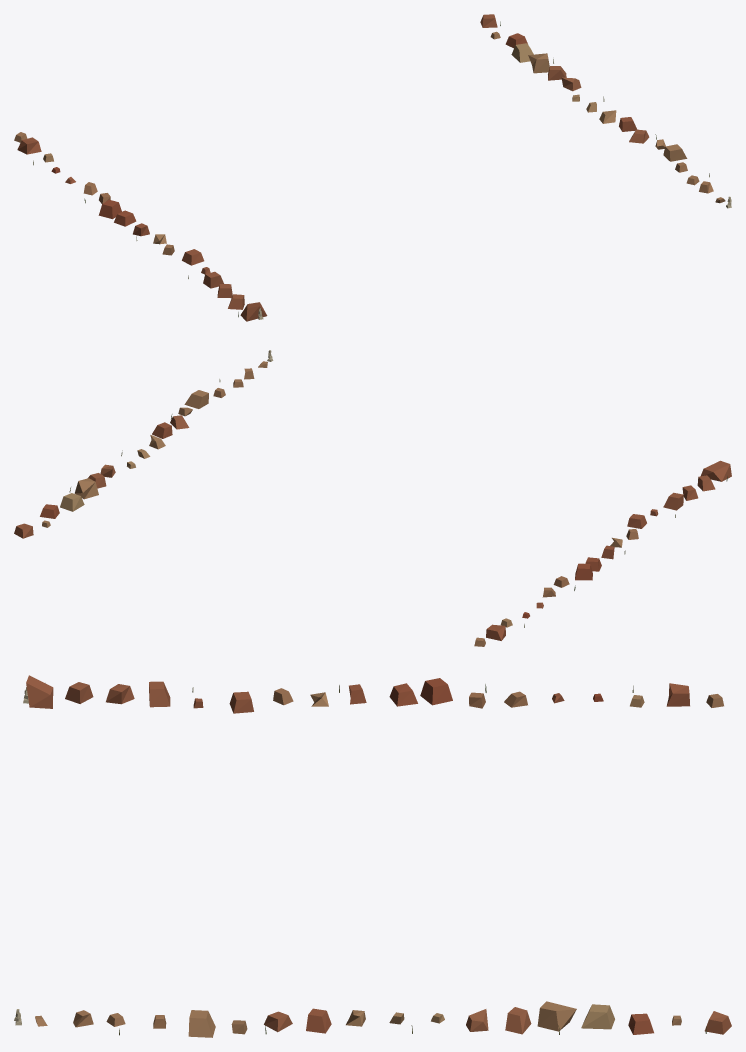
Rendered from mesa_lip_kicker_60x26x60_detail1.glb.
The picture shows the model from 3 angles, top to bottom: view 1: azimuth 30°, elevation 25°; view 2: azimuth 150°, elevation 25°; view 3: azimuth 270°, elevation 25°; orthographic projection. The views are drawn at different scales.
Parts seen in each view (by area): view 1: mesa_lip_kicker_60x26x60_detail1; view 2: mesa_lip_kicker_60x26x60_detail1; view 3: mesa_lip_kicker_60x26x60_detail1.
Boxes of the visible parts, x1,y1,x2,y2 form: mesa_lip_kicker_60x26x60_detail1: (14, 14, 731, 321); mesa_lip_kicker_60x26x60_detail1: (14, 350, 731, 646); mesa_lip_kicker_60x26x60_detail1: (14, 675, 731, 1037).
Bounding box in the file's own units: 67.17 × 1.67 × 58.79.
